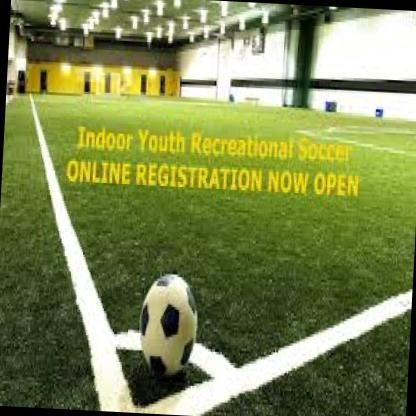ball: (137, 271, 201, 380)
